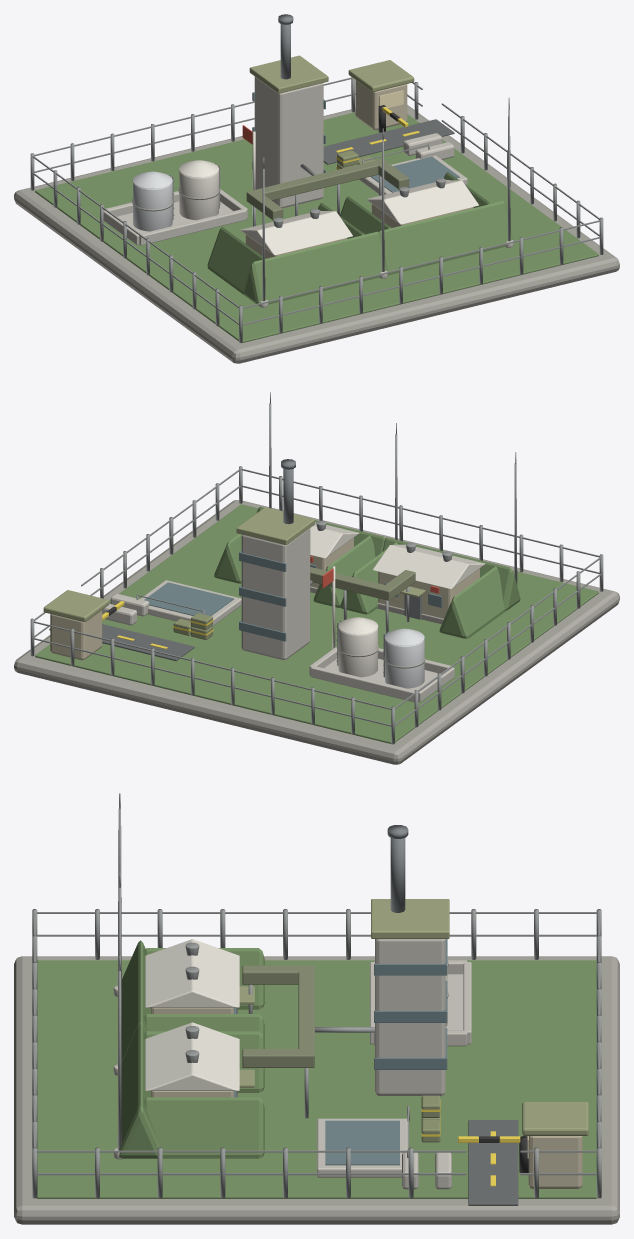
The model's file is tnt_6.glb.
3 views of the same model, one above another, from view 1: azimuth 30°, elevation 25°; view 2: azimuth 150°, elevation 25°; view 3: azimuth 270°, elevation 25° (orthographic). The views are drawn at different scales.
Parts seen in each view (by area): view 1: Cube.001, Cube, Cube.052, prism, prism.004, prism.007, prism.003, Cube.002, prism.001, Cube.029, Cube.059, Cylinder.013 (+20 smaller); view 2: Cube.001, Cube, Cube.052, prism.001, prism.003, Cube.006, Cube.061, Cube.059, Cylinder.013, Cylinder.015, Cube.002, prism.005 (+20 smaller); view 3: Cube.001, Cube, Cube.052, prism.006, prism.003, prism.007, Cube.002, prism.004, Cube.061, Cube.059, Cube.006, Cube.007 (+20 smaller).
Boxes of the visible parts, left/top/right/bottom form: Cube.001: left=35, top=112, right=598, bottom=343; Cube: left=14, top=105, right=619, bottom=363; Cube.052: left=254, top=76, right=323, bottom=208; prism: left=243, top=231, right=386, bottom=305; prism.004: left=379, top=201, right=513, bottom=275; prism.007: left=366, top=180, right=478, bottom=224; prism.003: left=240, top=210, right=352, bottom=255; Cube.002: left=323, top=119, right=454, bottom=164; prism.001: left=207, top=227, right=265, bottom=294; Cube.029: left=248, top=159, right=386, bottom=200; Cube.059: left=249, top=55, right=328, bottom=93; Cylinder.013: left=133, top=182, right=172, bottom=231; Cube.001: left=35, top=504, right=598, bottom=743; Cube: left=14, top=500, right=619, bottom=764; Cube.052: left=241, top=528, right=310, bottom=659; prism.001: left=439, top=566, right=505, bottom=638; prism.003: left=373, top=544, right=485, bottom=588; Cube.006: left=50, top=610, right=102, bottom=660; Cube.061: left=144, top=582, right=234, bottom=615; Cube.059: left=236, top=507, right=315, bottom=544; Cylinder.013: left=385, top=639, right=424, bottom=688; Cylinder.015: left=338, top=628, right=377, bottom=677; Cube.002: left=49, top=624, right=194, bottom=661; prism.005: left=313, top=535, right=375, bottom=607; Cube.001: left=37, top=960, right=596, bottom=1198; Cube: left=14, top=956, right=619, bottom=1224; Cube.052: left=375, top=939, right=445, bottom=1095; prism.006: left=143, top=1097, right=264, bottom=1158; prism.003: left=145, top=939, right=239, bottom=1007; prism.007: left=145, top=1022, right=239, bottom=1090; Cube.002: left=468, top=1120, right=518, bottom=1205; prism.004: left=119, top=1023, right=159, bottom=1158; Cube.061: left=325, top=1120, right=399, bottom=1165; Cube.059: left=371, top=899, right=449, bottom=938; Cube.006: left=528, top=1136, right=582, bottom=1188; Cube.007: left=522, top=1102, right=588, bottom=1135.
Bounding box in the file's own units: 2.92 × 1.43 × 2.92.
